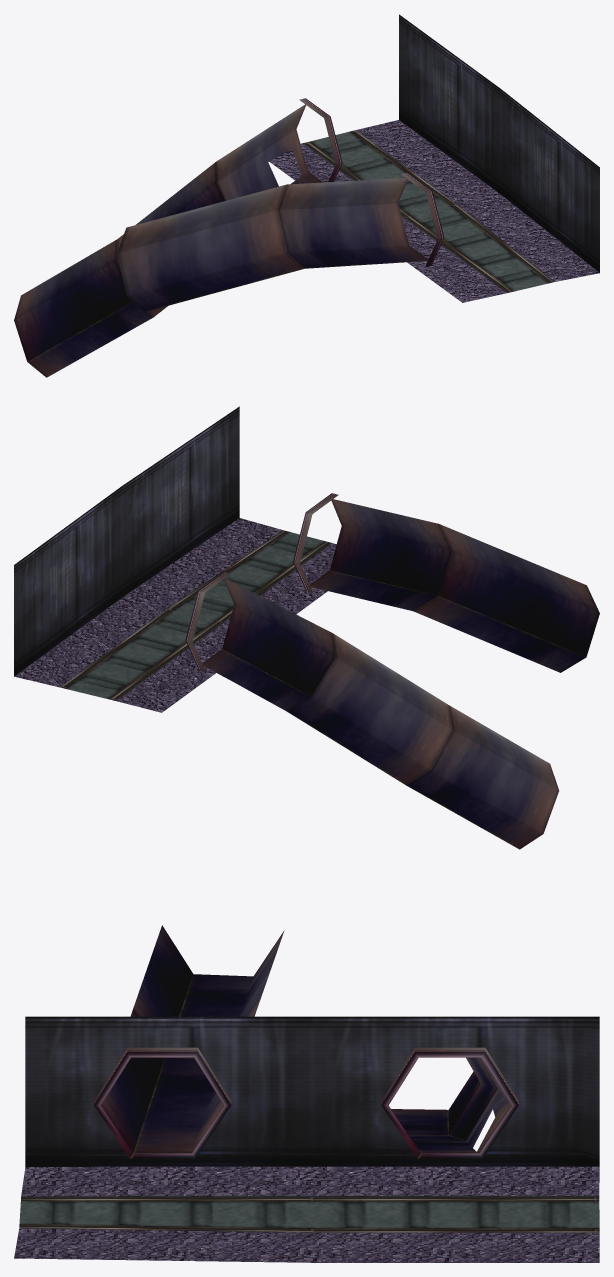
Rendered from sewersentrance.glb.
The picture shows the model from 3 angles, top to bottom: view 1: azimuth 30°, elevation 25°; view 2: azimuth 150°, elevation 25°; view 3: azimuth 270°, elevation 25°; orthographic projection. The views are drawn at different scales.
Visible parts, largest first — view 1: sewersentrance; view 2: sewersentrance; view 3: sewersentrance.
Part boxes in pixels (box(x1,y1,x2,y2)): sewersentrance: box(14, 14, 599, 377); sewersentrance: box(14, 406, 599, 849); sewersentrance: box(14, 925, 599, 1262).
Size of the model in its own units: 4236 by 1922 by 3519.
5 materials, 5 textured.
